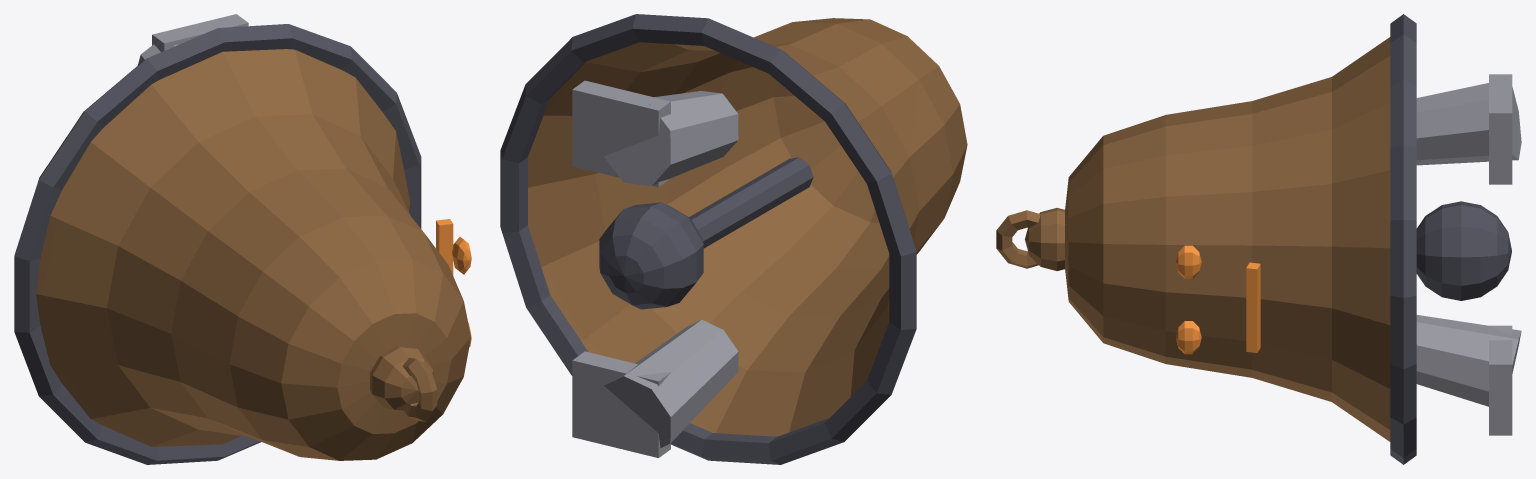
The model's file is Badajo.obj.
3 renders of one model, left to right at view 1: azimuth 30°, elevation 25°; view 2: azimuth 150°, elevation 25°; view 3: azimuth 270°, elevation 25°, orthographic. The views are drawn at different scales.
Parts seen in each view (by area): view 1: Badajo; view 2: Badajo; view 3: Badajo.
Part boxes in pixels (box(x1,y1,x2,y2)): Badajo: box(14, 14, 471, 464); Badajo: box(500, 14, 967, 464); Badajo: box(996, 14, 1521, 464).
Size of the model in its own units: 193 by 196 by 227.
